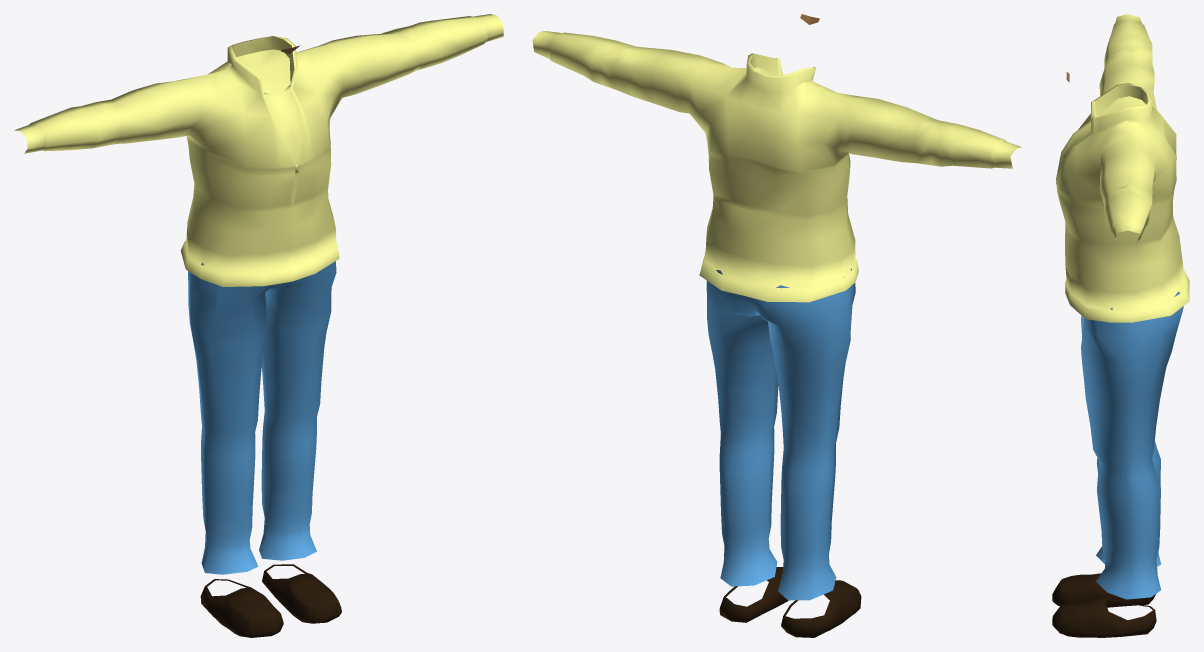
Rendered from Dress2.glb.
The picture shows the model from 3 angles, left to right: view 1: azimuth 30°, elevation 25°; view 2: azimuth 150°, elevation 25°; view 3: azimuth 270°, elevation 25°; orthographic projection. The views are drawn at different scales.
Parts seen in each view (by area): view 1: M_uBody_SportJacket, Export: F_lBody_CountryPant, M_Feet_Crocs; view 2: M_uBody_SportJacket, Export: F_lBody_CountryPant, M_Feet_Crocs; view 3: M_uBody_SportJacket, Export: F_lBody_CountryPant, M_Feet_Crocs.
Boxes of the visible parts, x1,y1,x2,y2 form: M_uBody_SportJacket: [14, 14, 503, 286]; Export: F_lBody_CountryPant: [188, 261, 336, 574]; M_Feet_Crocs: [200, 564, 341, 637]; M_uBody_SportJacket: [532, 31, 1021, 302]; Export: F_lBody_CountryPant: [706, 268, 855, 600]; M_Feet_Crocs: [719, 567, 861, 637]; M_uBody_SportJacket: [1056, 14, 1189, 322]; Export: F_lBody_CountryPant: [1081, 291, 1183, 599]; M_Feet_Crocs: [1052, 573, 1156, 637].
Bounding box in the file's own units: 1.42 × 1.64 × 0.3794.
